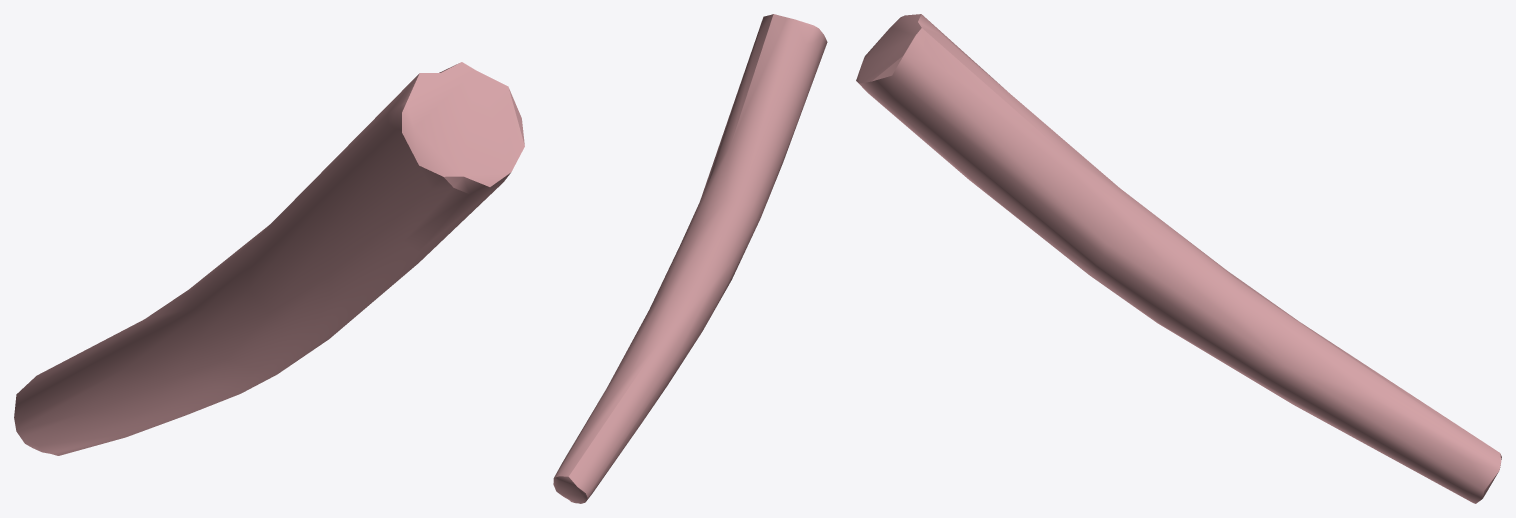
Rendered from fma68221_fj2486.glb.
The picture shows the model from 3 angles, left to right: view 1: azimuth 30°, elevation 25°; view 2: azimuth 150°, elevation 25°; view 3: azimuth 270°, elevation 25°; orthographic projection. The views are drawn at different scales.
Parts seen in each view (by area): view 1: FMA68221_FJ2486; view 2: FMA68221_FJ2486; view 3: FMA68221_FJ2486.
Boxes of the visible parts, x1,y1,x2,y2 form: FMA68221_FJ2486: (14, 62, 524, 455); FMA68221_FJ2486: (553, 14, 827, 503); FMA68221_FJ2486: (856, 14, 1501, 503).
Size of the model in its own units: 0.00212 by 0.0109 by 0.0135.
